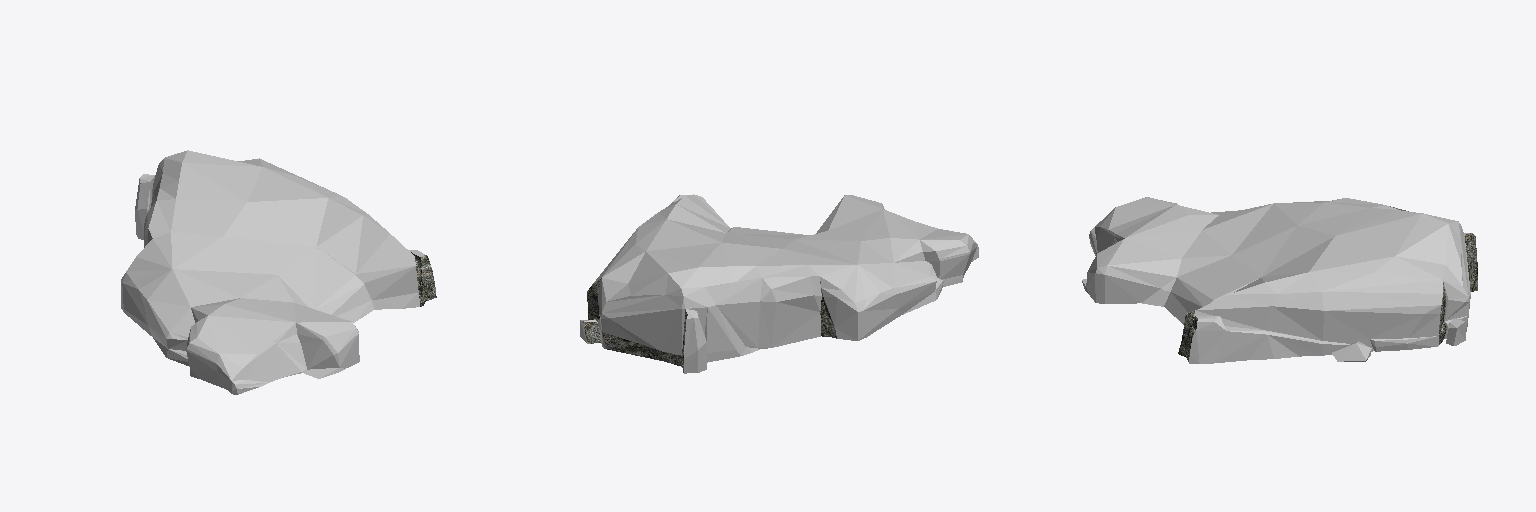
3 renders of one model, left to right at view 1: azimuth 30°, elevation 25°; view 2: azimuth 150°, elevation 25°; view 3: azimuth 270°, elevation 25°, orthographic.
Parts seen in each view (by area): view 1: outcropD; view 2: outcropD; view 3: outcropD.
Part boxes in pixels (x1,y1,x2,y2): outcropD: (121, 150, 436, 394); outcropD: (580, 194, 978, 373); outcropD: (1082, 197, 1477, 363).
Bounding box in the file's own units: 41.9 × 12.22 × 52.93.
Materials: 2 (1 with a texture image).